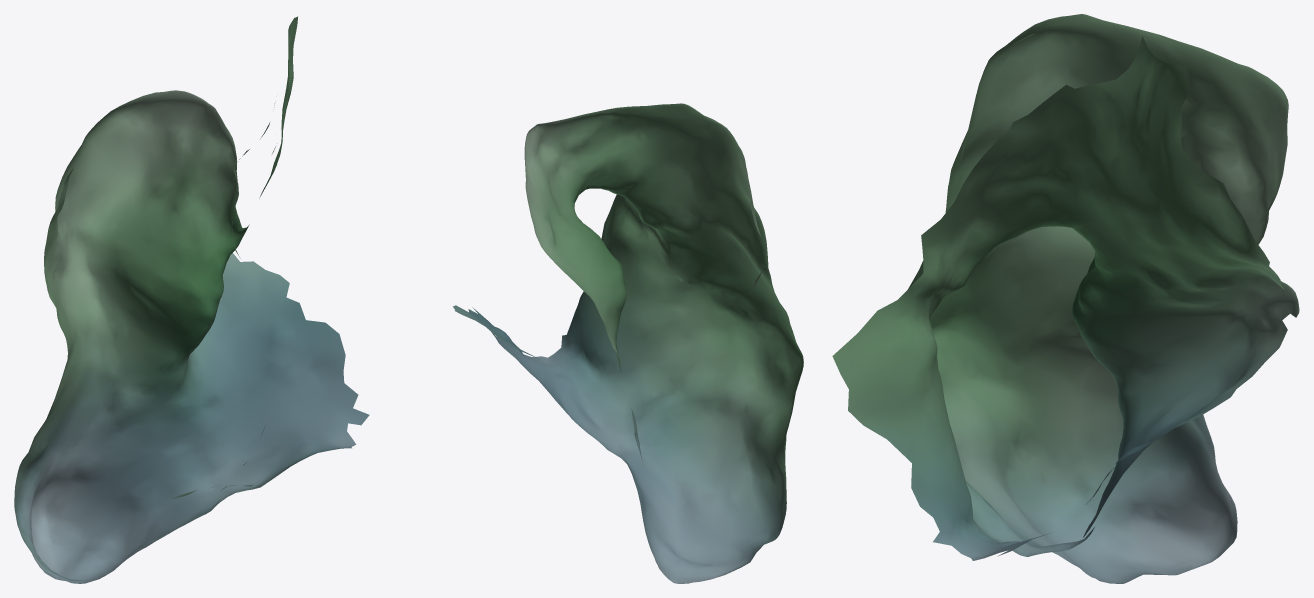
Rendered from LODS_Cloud_global_11.glb.
3 renders of one model, left to right at view 1: azimuth 30°, elevation 25°; view 2: azimuth 150°, elevation 25°; view 3: azimuth 270°, elevation 25°, orthographic. The views are drawn at different scales.
Visible parts, largest first — view 1: LOD0; view 2: LOD0; view 3: LOD0.
Part boxes in pixels (bbox=[...]): LOD0: bbox=[14, 16, 369, 583]; LOD0: bbox=[453, 103, 803, 583]; LOD0: bbox=[832, 14, 1299, 583].
Size of what is drawn, in the model's own units: 0.1715 by 0.2656 by 0.1645.
